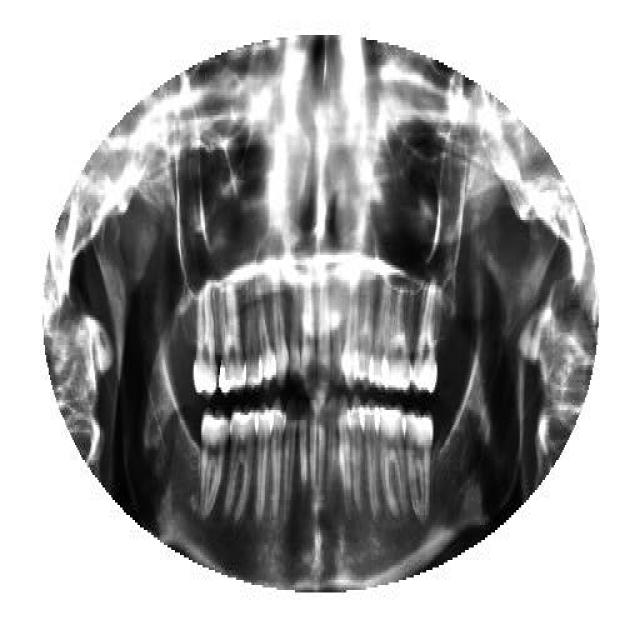Fillings: (218, 282, 246, 398)
